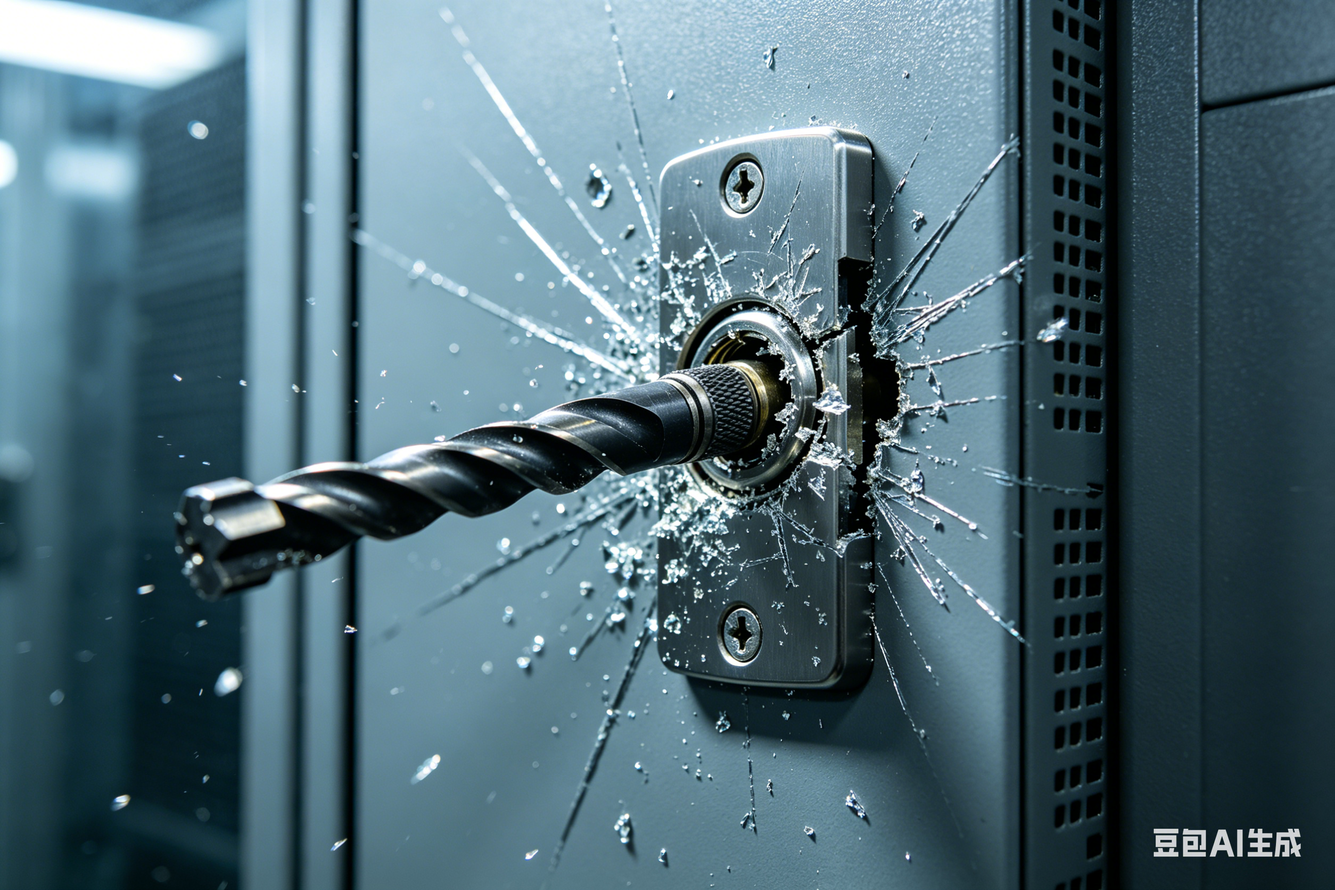BadLock: (740, 244, 905, 563)
